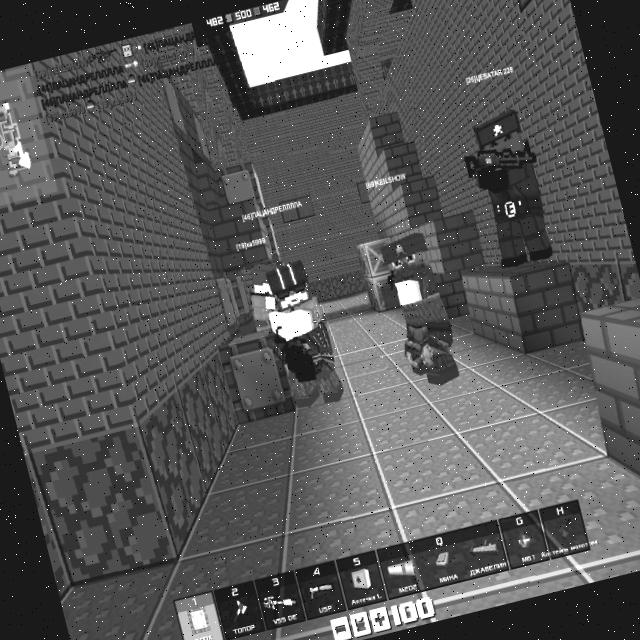Head: (471, 113, 528, 172), (376, 230, 436, 280), (265, 258, 316, 308), (247, 259, 280, 293)
Player: (448, 102, 560, 271), (372, 230, 472, 392), (252, 256, 344, 412), (240, 258, 292, 334)
